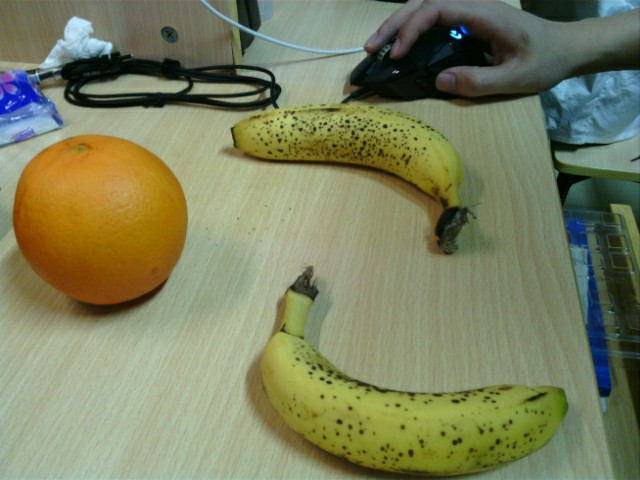normal_banana: (230, 106, 465, 255)
normal_orange: (13, 135, 189, 305)
rotten_banana: (260, 277, 572, 476)
